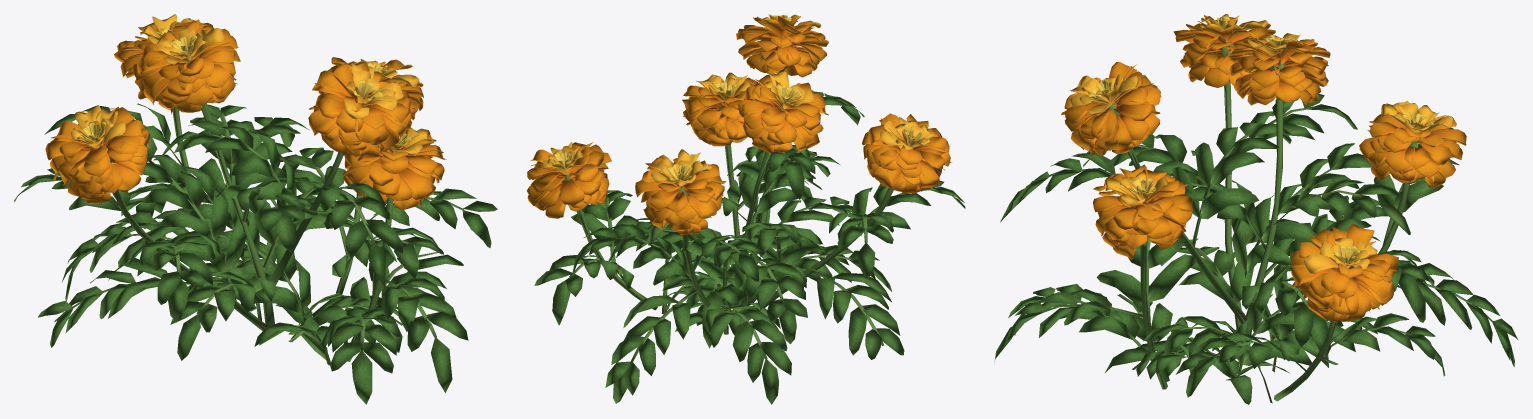
The model's file is mdl_paprika_marigolds.gltf.
3 renders of one model, left to right at view 1: azimuth 30°, elevation 25°; view 2: azimuth 150°, elevation 25°; view 3: azimuth 270°, elevation 25°, orthographic. The views are drawn at different scales.
Parts seen in each view (by area): view 1: Object_10; view 2: Object_10; view 3: Object_10.
Boxes of the visible parts, box(x1,y1,x2,y2) form: Object_10: box(14, 14, 497, 404); Object_10: box(526, 14, 965, 404); Object_10: box(994, 14, 1518, 404).
Size of the model in its own units: 13.64 by 9.54 by 14.5.
Materials: 5 (5 with a texture image).
